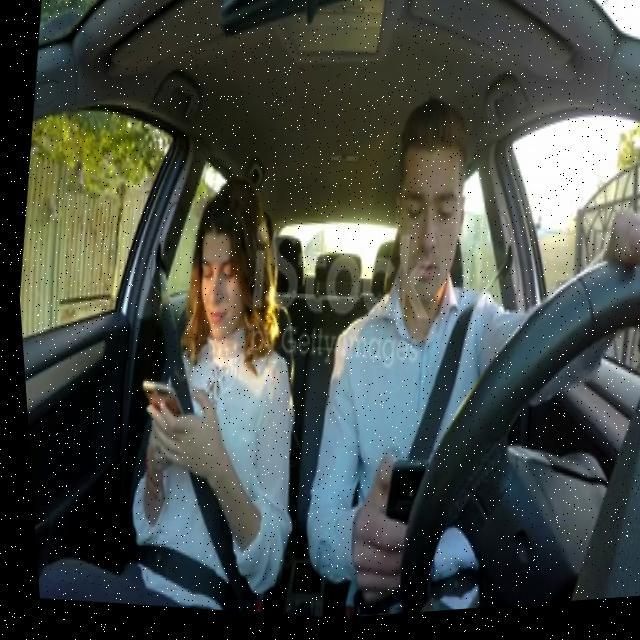PhoneCall: (369, 458, 428, 560), (132, 373, 182, 436)
